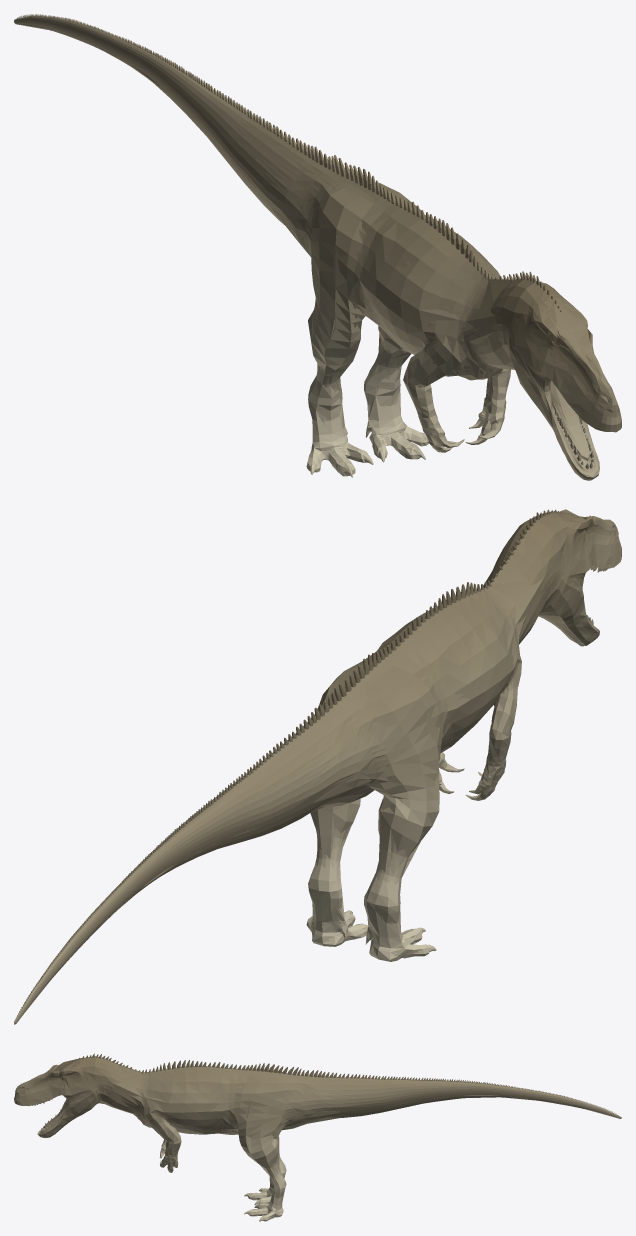
Rendered from torvosaurus.glb.
3 views of the same model, one above another, from view 1: azimuth 30°, elevation 25°; view 2: azimuth 150°, elevation 25°; view 3: azimuth 270°, elevation 25° (orthographic). The views are drawn at different scales.
Parts seen in each view (by area): view 1: torvosaurus__torvosaurus.obj; view 2: torvosaurus__torvosaurus.obj; view 3: torvosaurus__torvosaurus.obj.
Boxes of the visible parts, x1,y1,x2,y2 form: torvosaurus__torvosaurus.obj: (14,14,621,480); torvosaurus__torvosaurus.obj: (14,509,621,1024); torvosaurus__torvosaurus.obj: (14,1053,621,1221).
Size of the model in its own units: 1.68 by 3.92 by 14.
